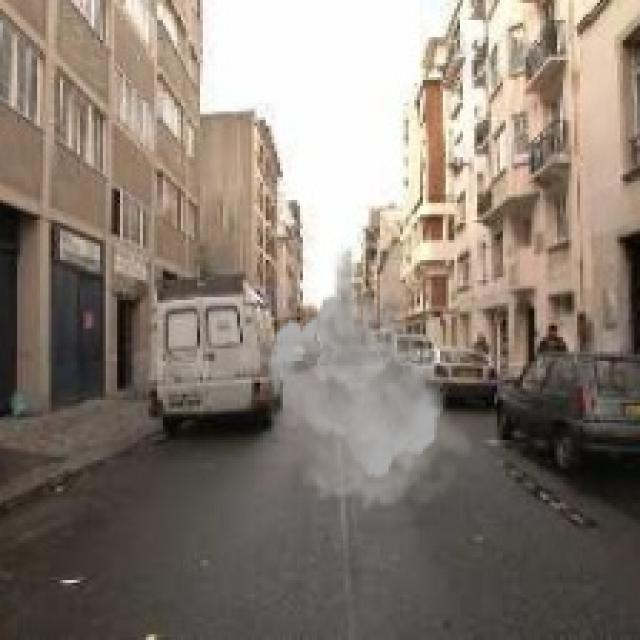smoke: (263, 243, 474, 514)
